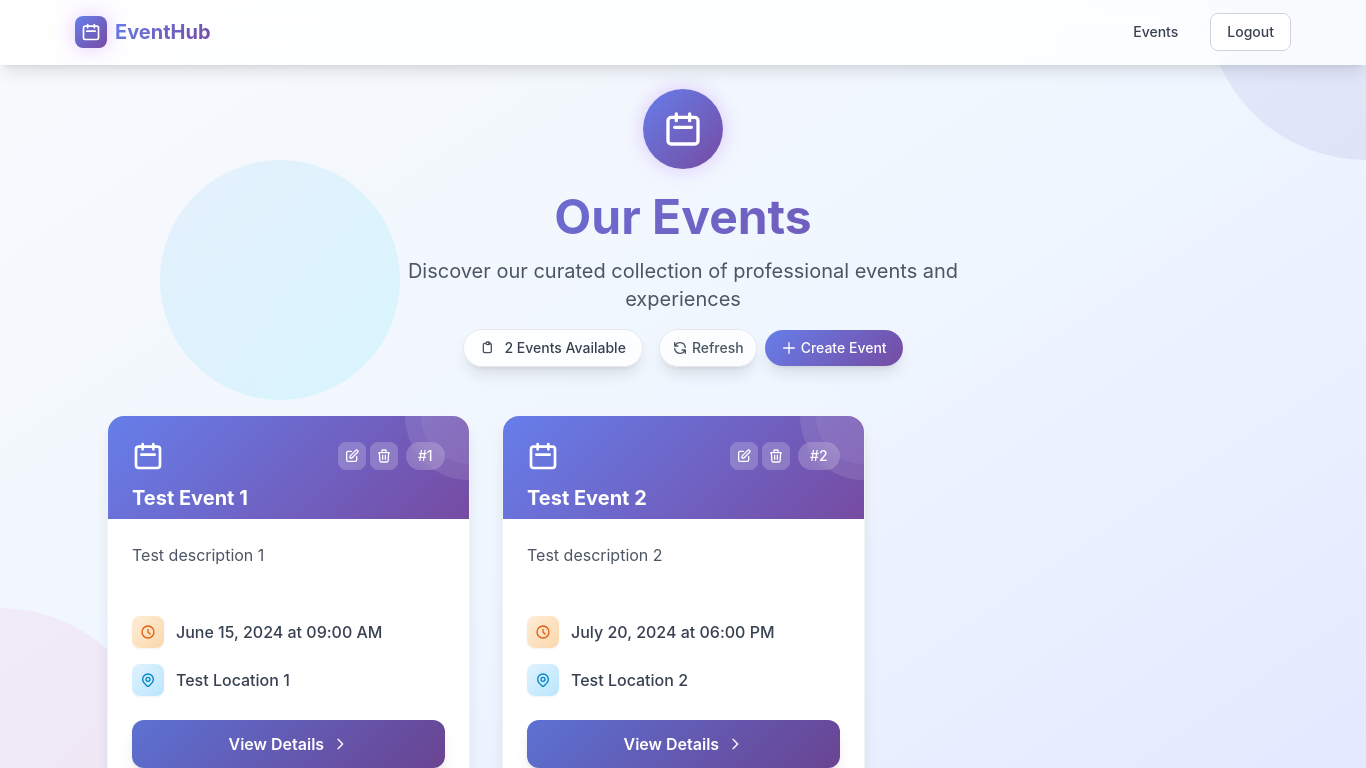
Test: Events Component - Delete Functionality › Admin Delete Controls › should open delete confirmation dialog when delete button is clicked
Expected: the heading "Test Event 1" is shown, [132,486,248,510]
Click the 1st button titled "Delete Event": (384,456) [370,442,398,470]
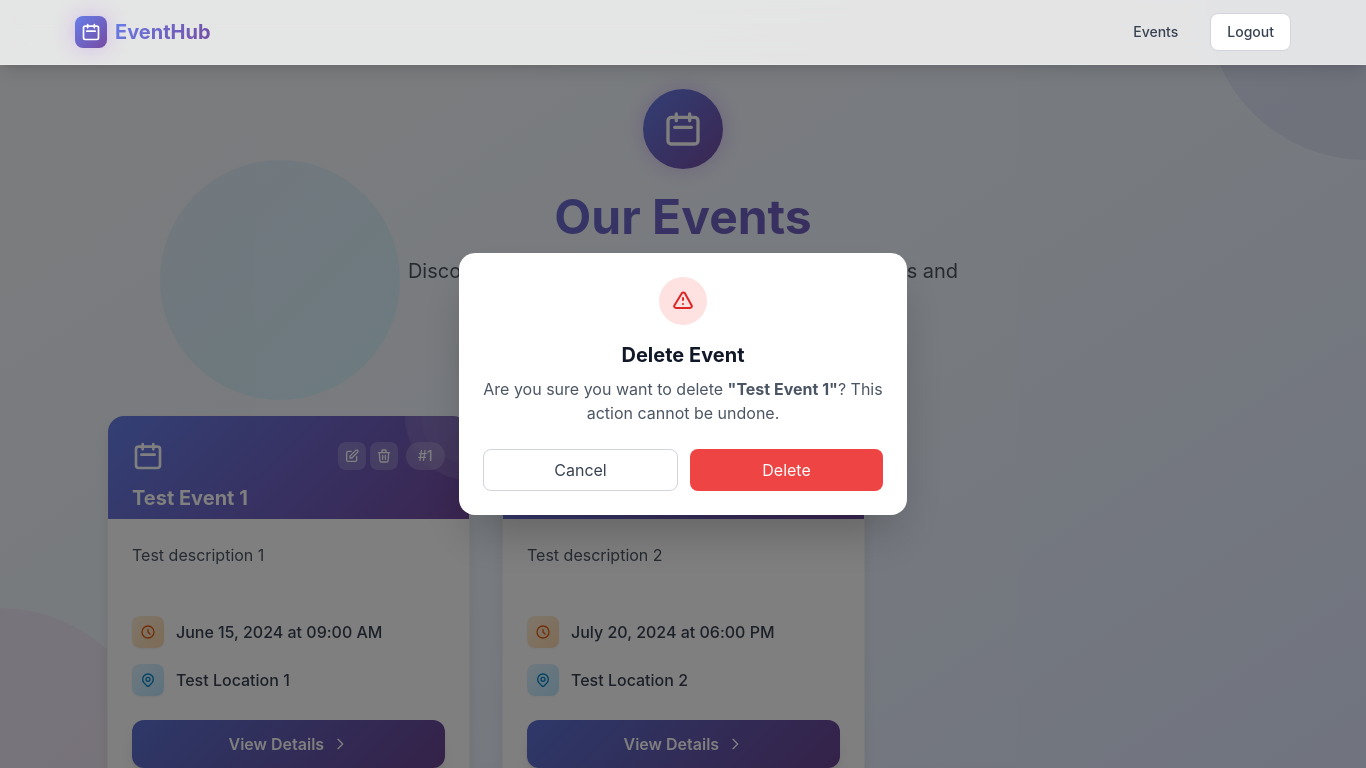
Result: the heading "Delete Event" is shown at [622,343,744,367]
Result: the text "Are you sure you want to delete" is shown at [483,379,728,399]
Result: the text "\"Test Event 1\"" is shown at [728,379,838,399]
